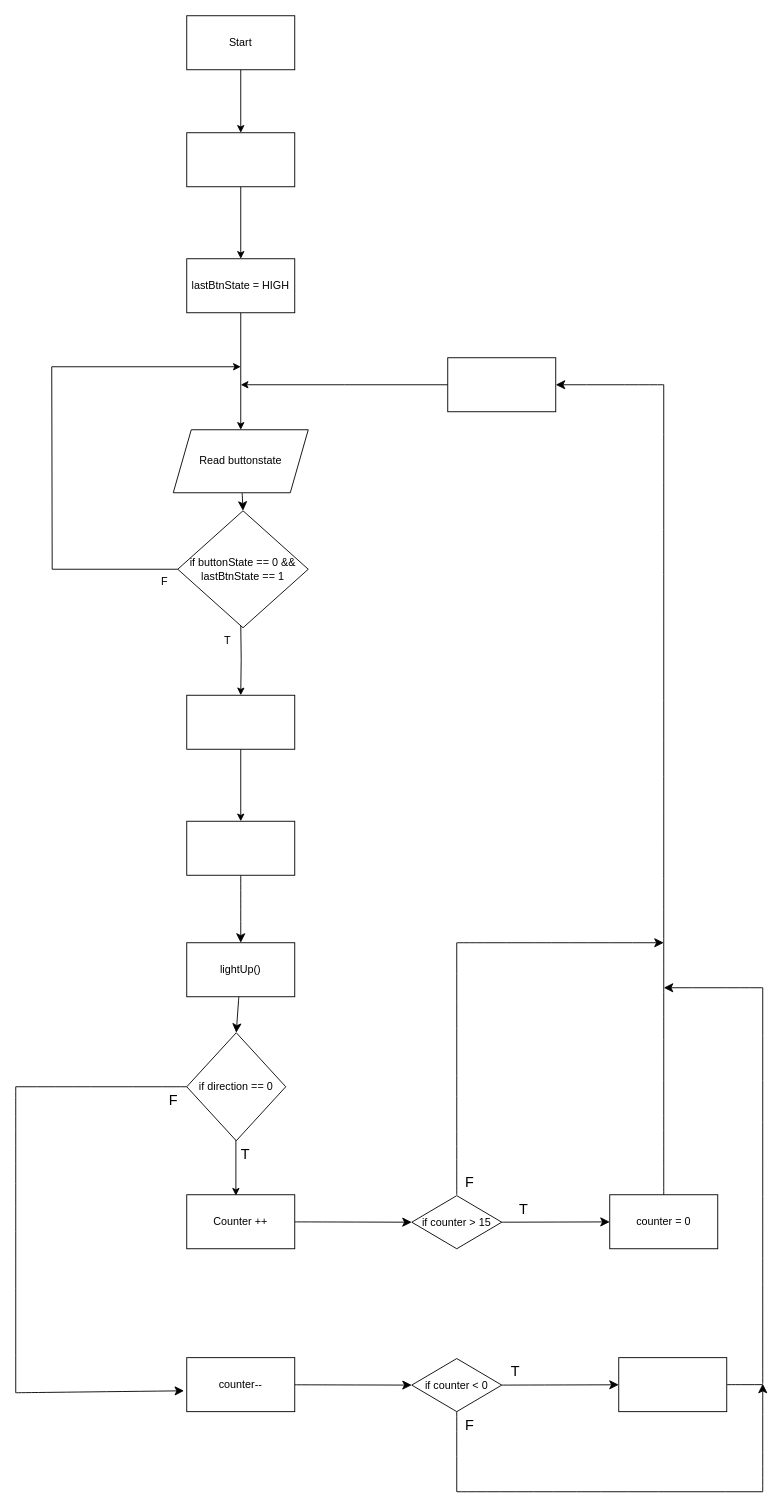
This 783x1508 diagram has some shape labels left out. Here are the shapes that lost their labels. From the top down, the centre of each, then its label:
(x=240, y=159): setUp()
(x=501, y=384): delay 1 second
(x=240, y=721): direction = !direction
(x=240, y=847): lastBtnState = btnState
(x=672, y=1384): Counter = 15
